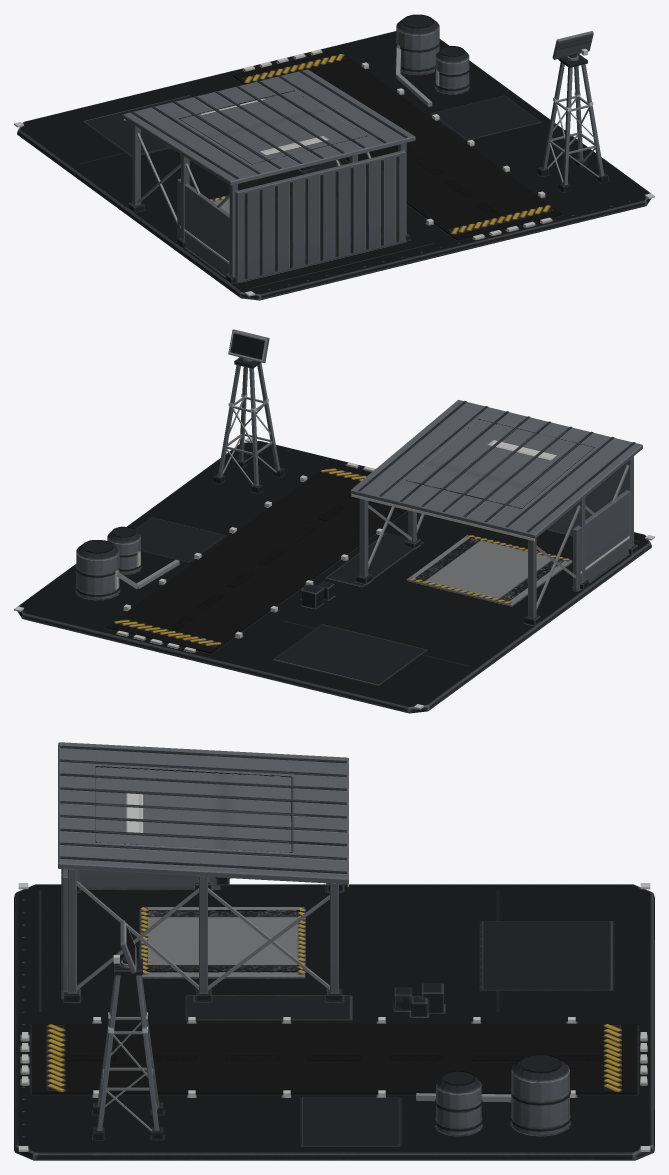
Rendered from chs_airfield.fbx.
3 renders of one model, top to bottom at view 1: azimuth 30°, elevation 25°; view 2: azimuth 150°, elevation 25°; view 3: azimuth 270°, elevation 25°, orthographic. The views are drawn at different scales.
Visible parts, largest first — view 1: base_bar, base_glow_running_bar, radar_bar; view 2: base_bar, base_glow_running_bar, radar_bar, base_glow_power_bar; view 3: base_bar, base_glow_running_bar.
Part boxes in pixels (left/top/right/bottom): base_bar: left=17, top=14, right=651, bottom=300; base_glow_running_bar: left=14, top=48, right=654, bottom=296; radar_bar: left=552, top=31, right=593, bottom=59; base_bar: left=17, top=357, right=651, bottom=713; base_glow_running_bar: left=14, top=393, right=654, bottom=709; radar_bar: left=228, top=329, right=269, bottom=362; base_glow_power_bar: left=115, top=444, right=551, bottom=589; base_bar: left=14, top=742, right=654, bottom=1160; base_glow_running_bar: left=18, top=883, right=650, bottom=1151.
Bounding box in the file's own units: 3918 × 1553 × 3916.
2 materials, 2 textured.
